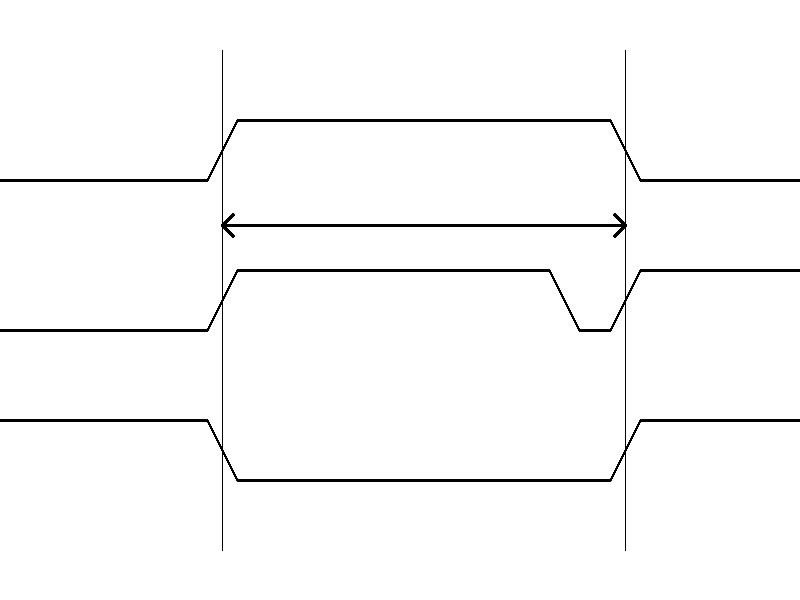double_arrow: (222, 210, 625, 240)
